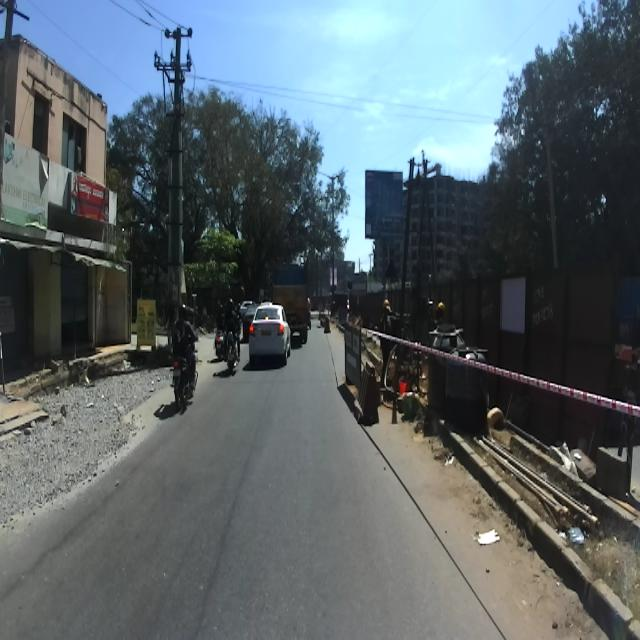barrier ahead at: (340, 320, 386, 427)
car ahead at: (248, 301, 294, 364)
electric pole ahead at: (148, 13, 200, 290)
motorcycle ahead at: (166, 350, 202, 412)
